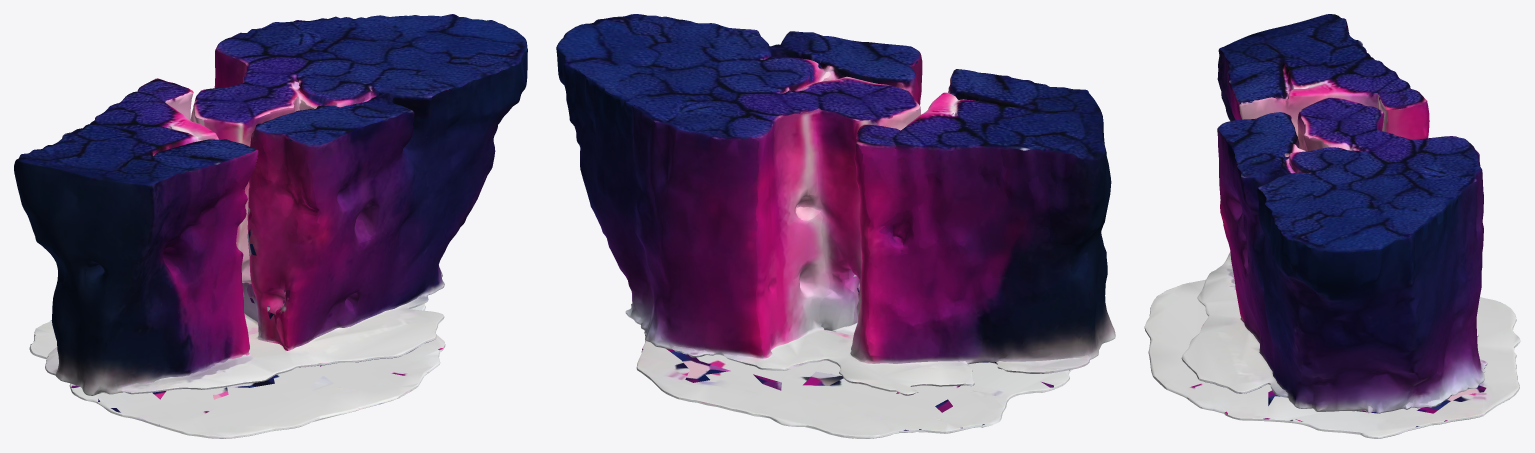
Rendered from shelf-break-1-generated-2026-05-17T20-34-49-162Z.medium.glb.
The picture shows the model from 3 angles, left to right: view 1: azimuth 30°, elevation 25°; view 2: azimuth 150°, elevation 25°; view 3: azimuth 270°, elevation 25°; orthographic projection. The views are drawn at different scales.
Parts seen in each view (by area): view 1: temp_mesh.ply; view 2: temp_mesh.ply; view 3: temp_mesh.ply.
Boxes of the visible parts, bbox=[...] form: temp_mesh.ply: bbox=[14, 14, 527, 438]; temp_mesh.ply: bbox=[556, 14, 1115, 438]; temp_mesh.ply: bbox=[1144, 14, 1520, 438].
Bounding box in the file's own units: 1.97 × 0.8976 × 1.32.
1 material, 1 textured.
